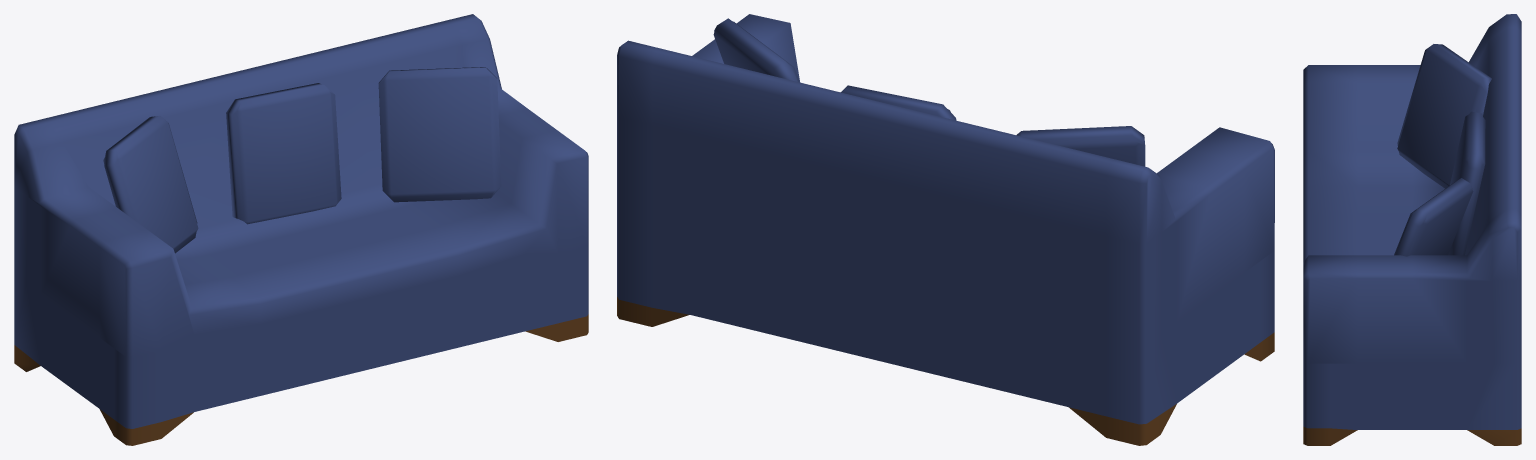
File: Couch.fbx
3 views of the same model, side by side, from view 1: azimuth 30°, elevation 25°; view 2: azimuth 150°, elevation 25°; view 3: azimuth 270°, elevation 25° (orthographic). The views are drawn at different scales.
Parts seen in each view (by area): view 1: Couch; view 2: Couch; view 3: Couch.
Part boxes in pixels (box(x1,y1,x2,y2)): Couch: box(14, 14, 588, 445); Couch: box(617, 14, 1274, 445); Couch: box(1303, 14, 1521, 445).
Size of the model in its own units: 91.57 by 44.96 by 40.
